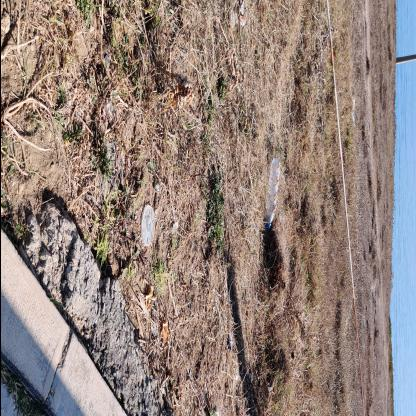plastik: (264, 158, 280, 230), (140, 204, 154, 247)
